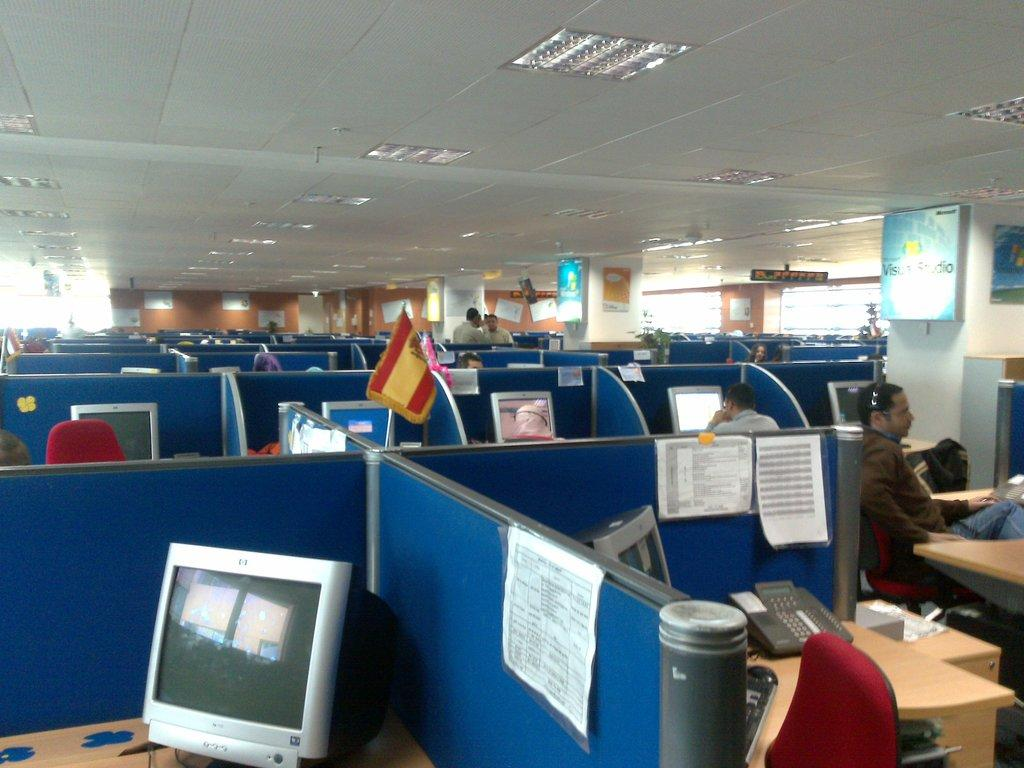Computer-monitor: (136, 557, 360, 768), (575, 501, 671, 590), (71, 399, 154, 461), (320, 401, 401, 448), (492, 388, 561, 443), (668, 385, 724, 431), (826, 380, 874, 430), (120, 365, 161, 374), (208, 367, 242, 376), (507, 364, 543, 367)
